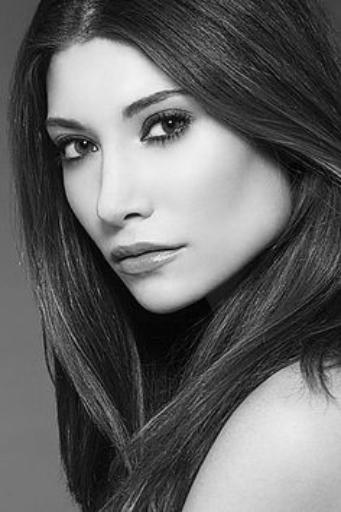left_eye: (137, 107, 195, 153)
left_lip_corner: (163, 237, 190, 259)
right_eye: (54, 137, 102, 166)
